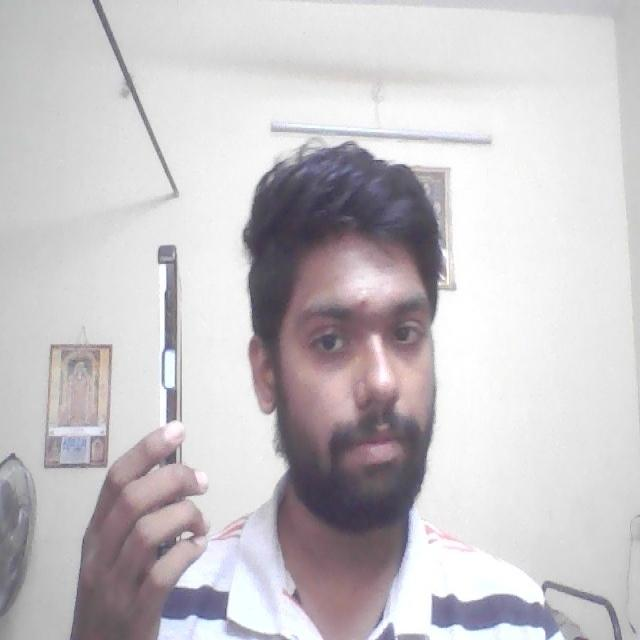Mobile: (153, 243, 185, 419)
